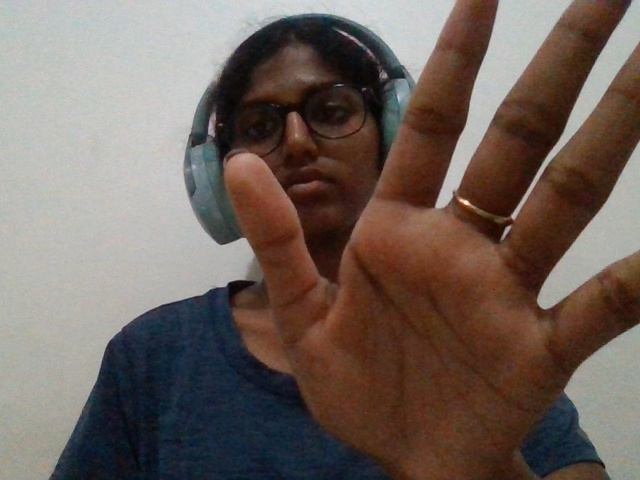Bye: (149, 1, 640, 479)
